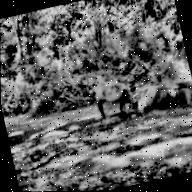boar: (89, 73, 141, 121)
